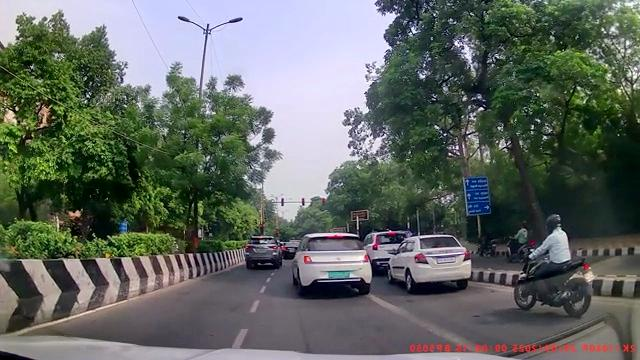motorcycle_with_helmet: (513, 213, 595, 317)
